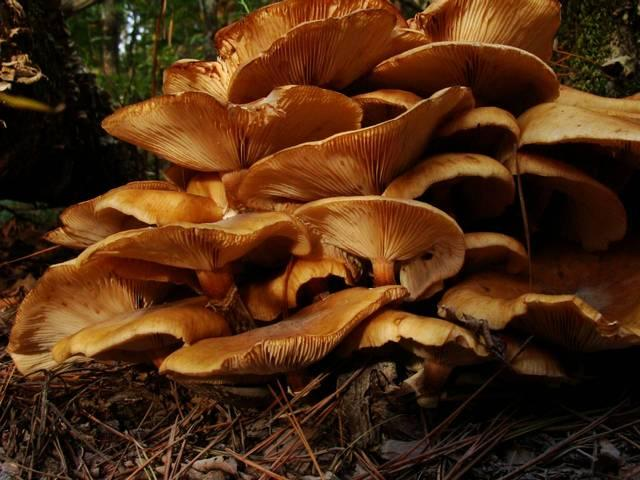Edible Mushroom: (5, 0, 638, 406)
